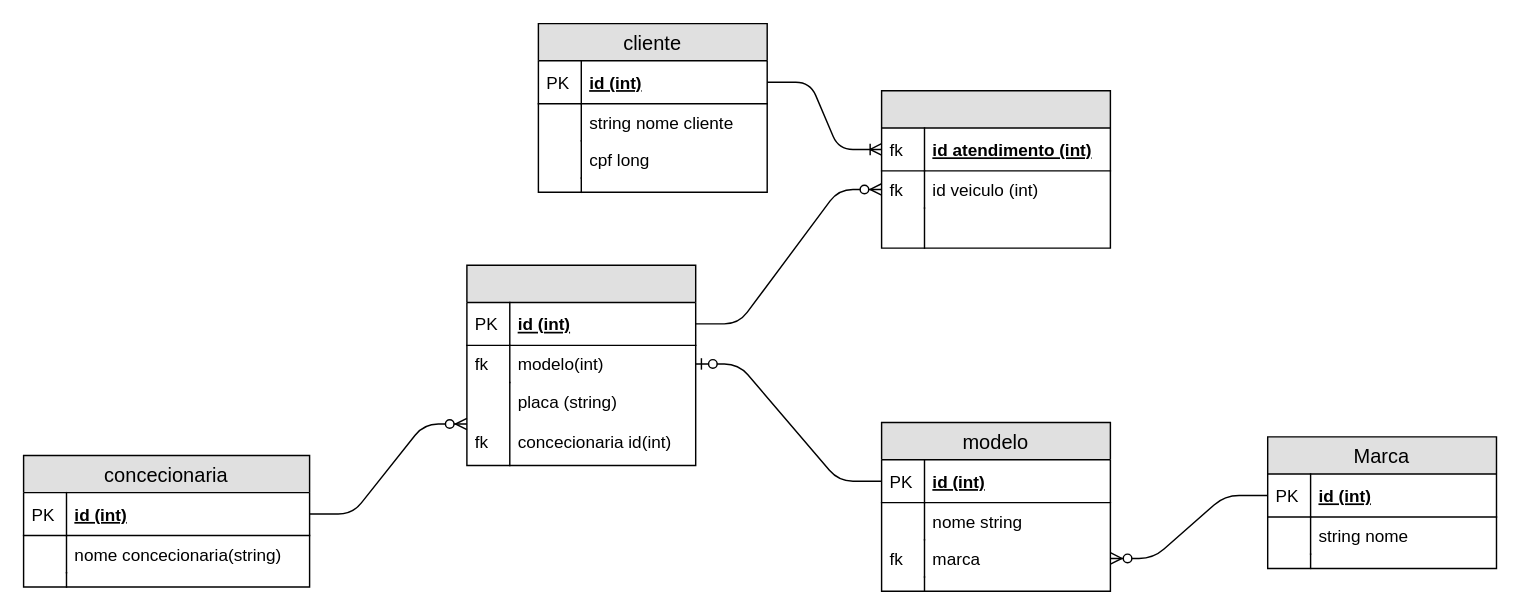
Image size: 1520x615. Some labels were removed from this diagram. Each missing label, with the box of its shape:
carros alugados: (880, 89, 1110, 248)
veiculos: (465, 264, 696, 465)
